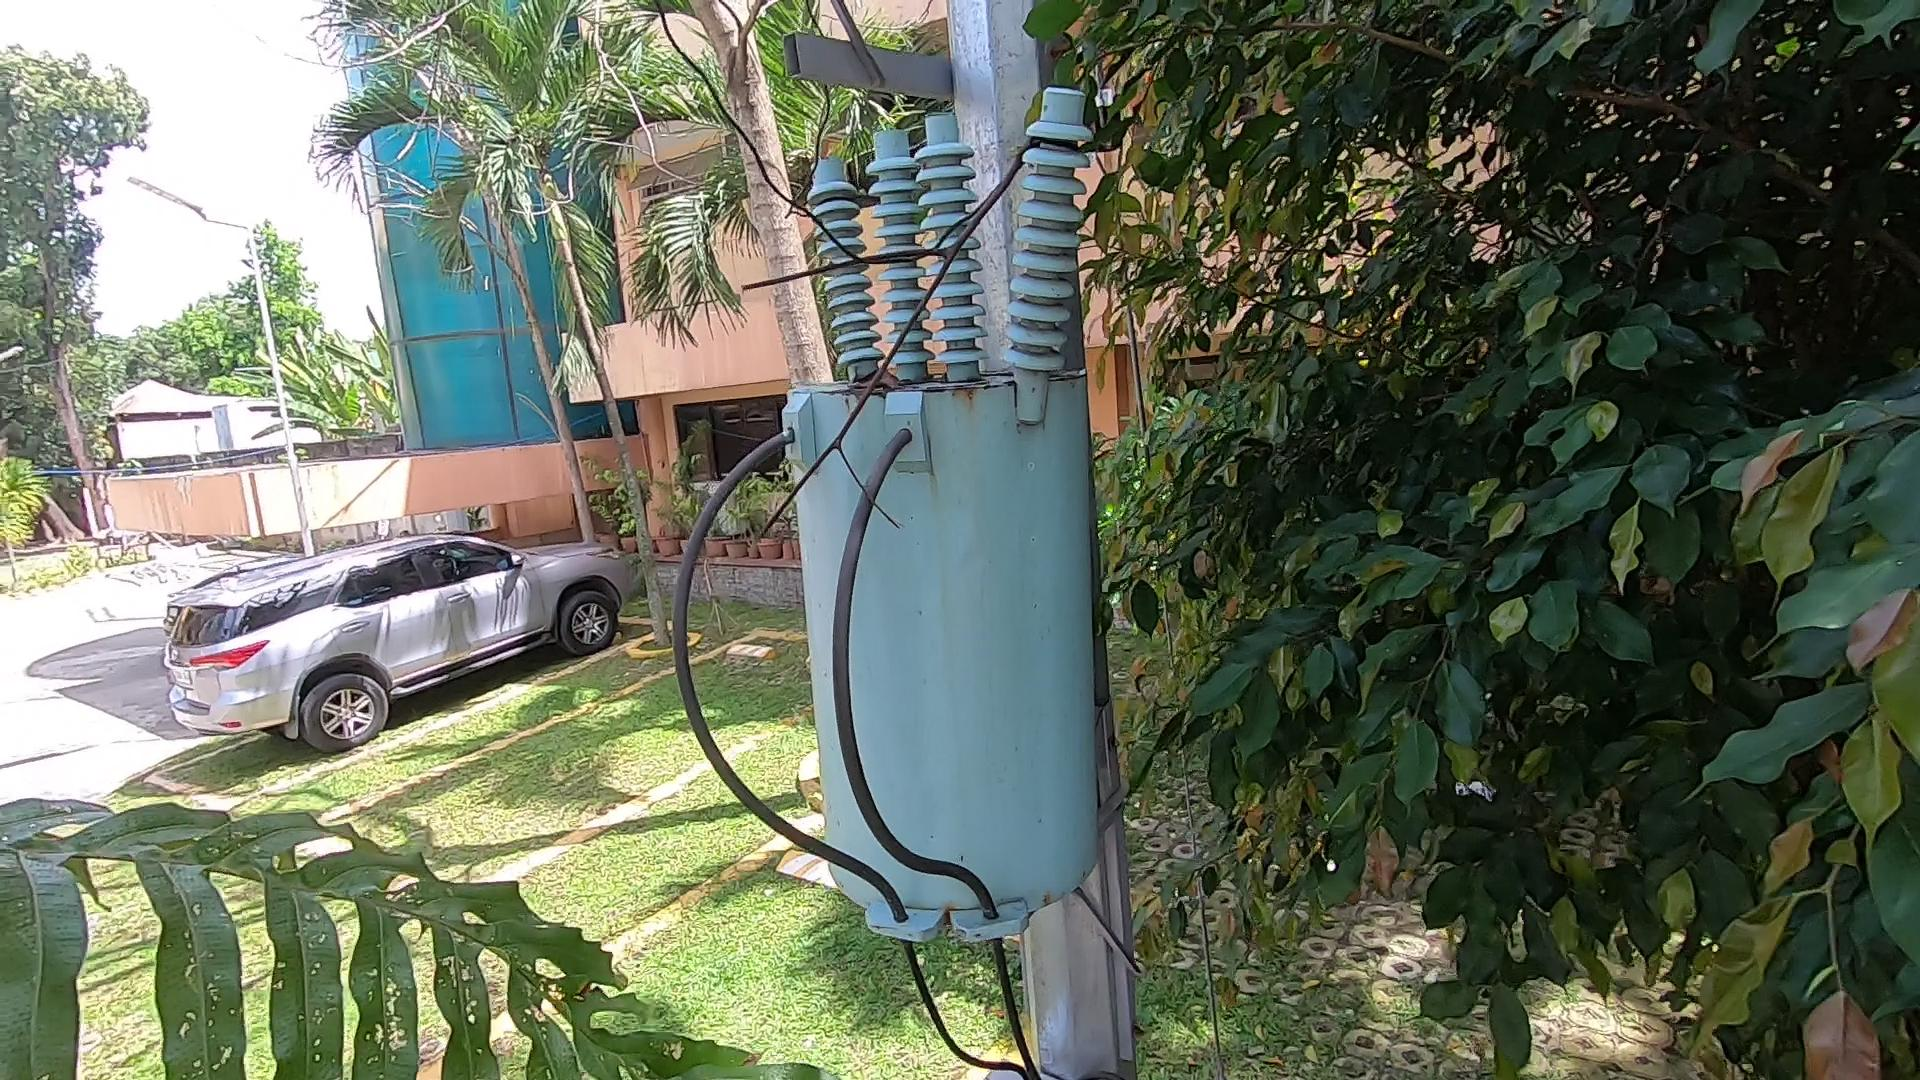leaf: (851, 368, 916, 402)
tree branch: (717, 116, 1079, 553)
